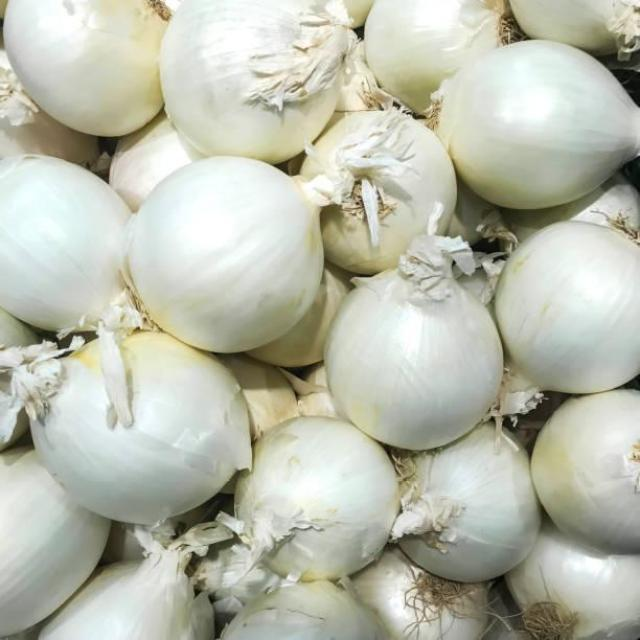Onion: (125, 157, 352, 352), (29, 328, 245, 522), (324, 238, 498, 453), (423, 36, 640, 208), (163, 0, 356, 160), (495, 211, 640, 421), (0, 141, 144, 335), (230, 417, 400, 580), (43, 509, 244, 640), (300, 108, 457, 274), (391, 426, 544, 584), (4, 0, 172, 135), (0, 448, 110, 636), (365, 0, 524, 115), (507, 512, 639, 640), (357, 551, 492, 640), (0, 56, 106, 168), (215, 582, 387, 640), (507, 0, 640, 52), (227, 356, 303, 438), (192, 544, 272, 612), (0, 308, 36, 444)
